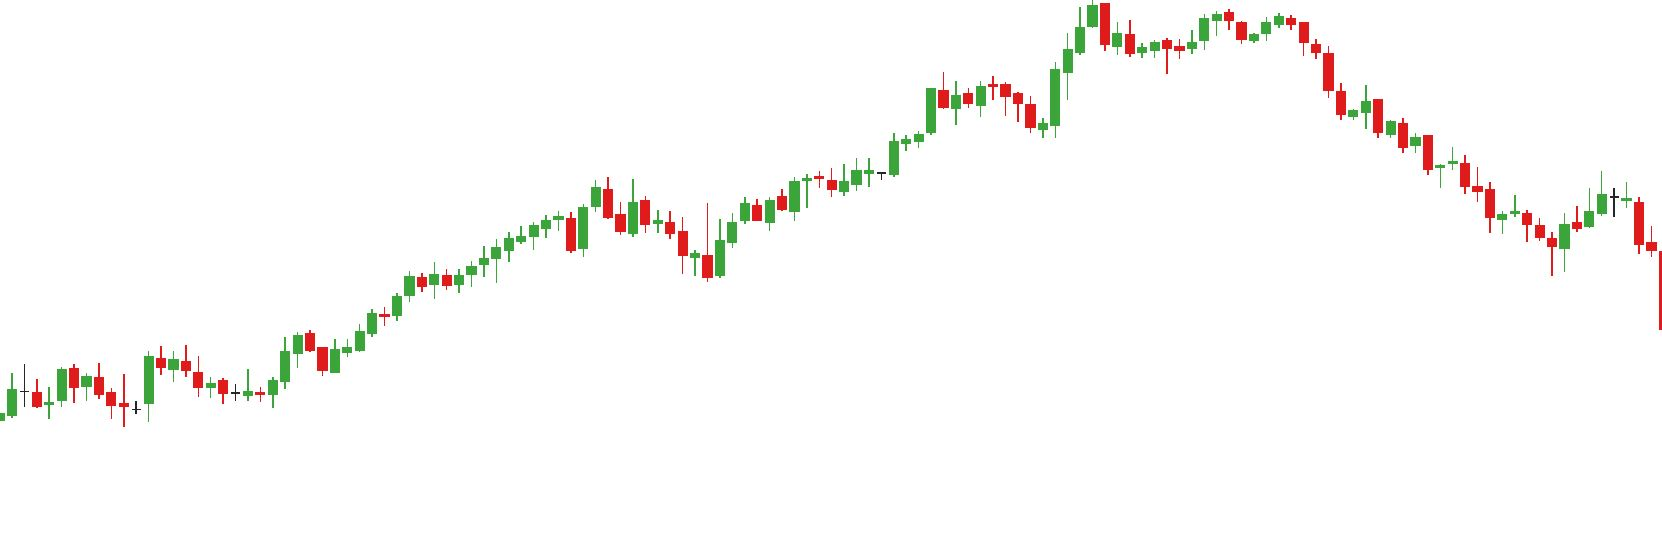buy: (951, 91, 1049, 142)
